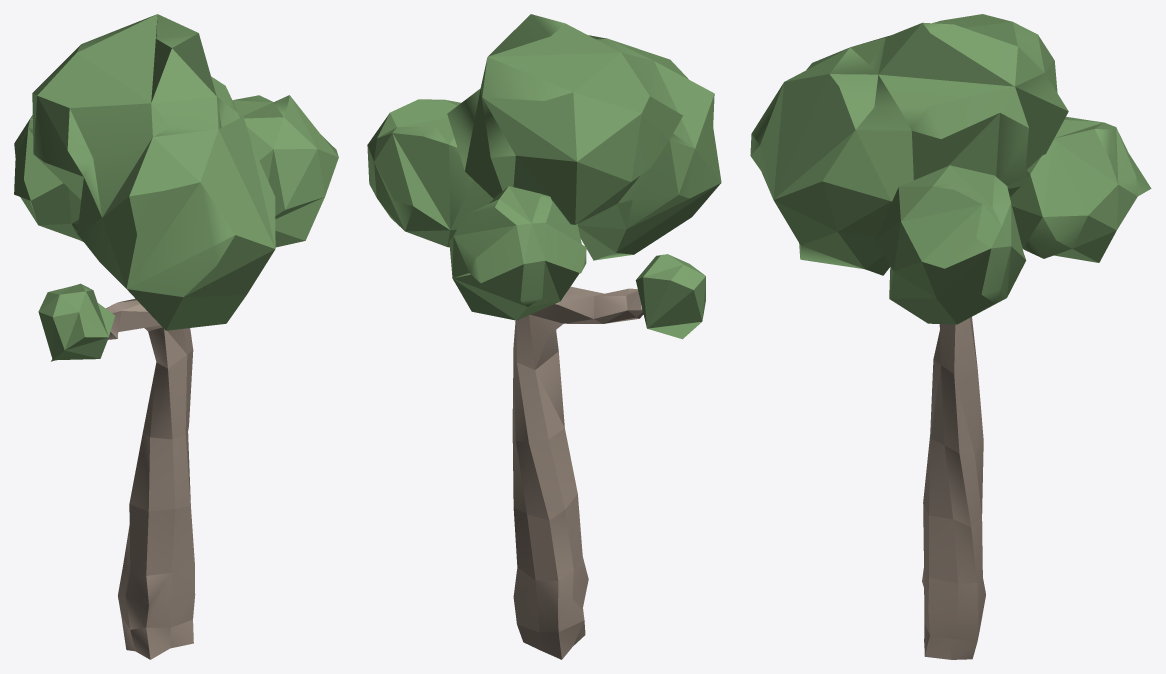
File: tree7.fbx
The picture shows the model from 3 angles, left to right: view 1: azimuth 30°, elevation 25°; view 2: azimuth 150°, elevation 25°; view 3: azimuth 270°, elevation 25°; orthographic projection. The views are drawn at different scales.
Visible parts, largest first — view 1: pSolid6, pCube1, pSolid3, pSolid5, pSolid2; view 2: pSolid6, pCube1, pSolid2, pSolid3, pSolid5; view 3: pSolid6, pCube1, pSolid3, pSolid2.
Part boxes in pixels (x1,y1,x2,y2): pSolid6: [32, 14, 275, 330]; pCube1: [106, 298, 195, 659]; pSolid3: [232, 95, 338, 247]; pSolid5: [38, 283, 115, 361]; pSolid2: [14, 115, 83, 241]; pSolid6: [447, 14, 721, 260]; pCube1: [512, 286, 643, 659]; pSolid2: [449, 186, 586, 320]; pSolid3: [367, 99, 493, 247]; pSolid5: [635, 254, 705, 339]; pSolid6: [750, 14, 1068, 275]; pCube1: [922, 317, 985, 659]; pSolid3: [875, 165, 1026, 324]; pSolid2: [1010, 116, 1151, 262].
Size of the model in its own units: 5.57 by 10.77 by 6.11.
